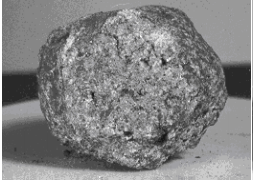Basalt: (28, 2, 234, 177)
